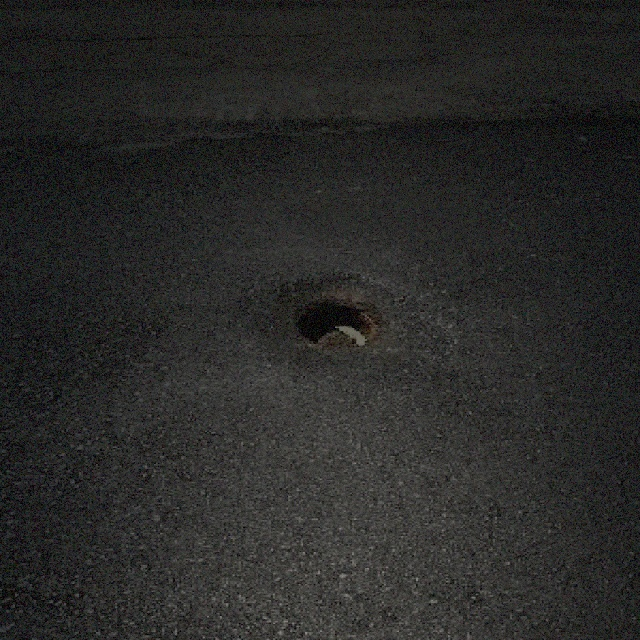pothole: (286, 296, 386, 352)
